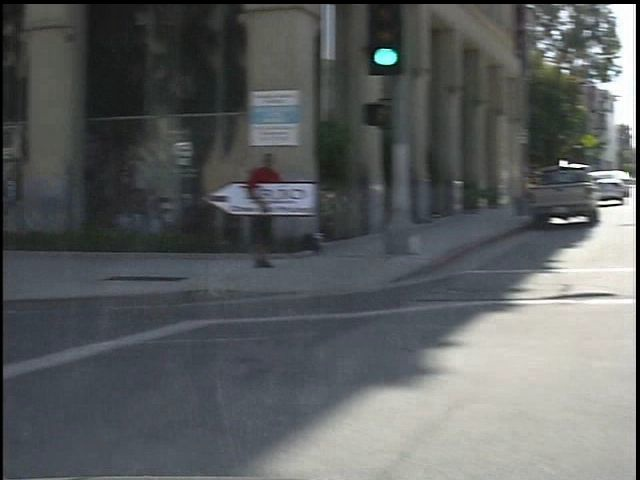person: (227, 144, 271, 273)
